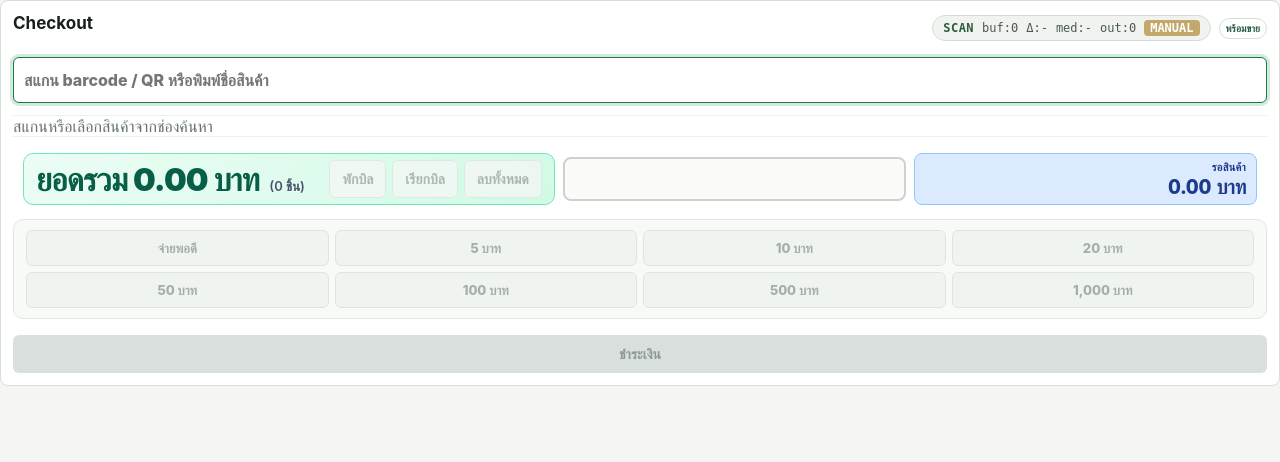
Scenario: PosCheckoutPage › keeps the scan field focused for barcode scanner input
// Open the dropdown to inspect the available suggestions.
Type "Drinking" into the dropdown named "สแกนหรือค้นหาสินค้า". click: (640,80)
box: left=13, top=57, right=1267, bottom=103
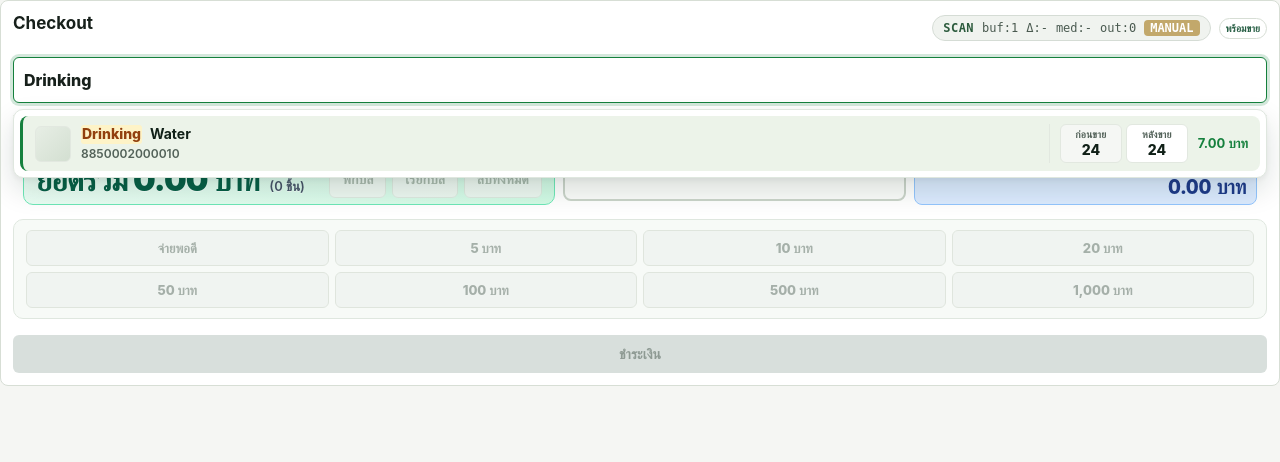
Now the option shows "Drinking Water", box left=20, top=116, right=1260, bottom=171
Now the option shows "8850002000010", box left=20, top=116, right=1260, bottom=171
Now the option shows "7.00 บาท", box left=20, top=116, right=1260, bottom=171
Replace the text in the dropdown named "สแกนหรือค้นหาสินค้า" with "8850002000010". click: (640,80)
box: left=13, top=57, right=1267, bottom=103
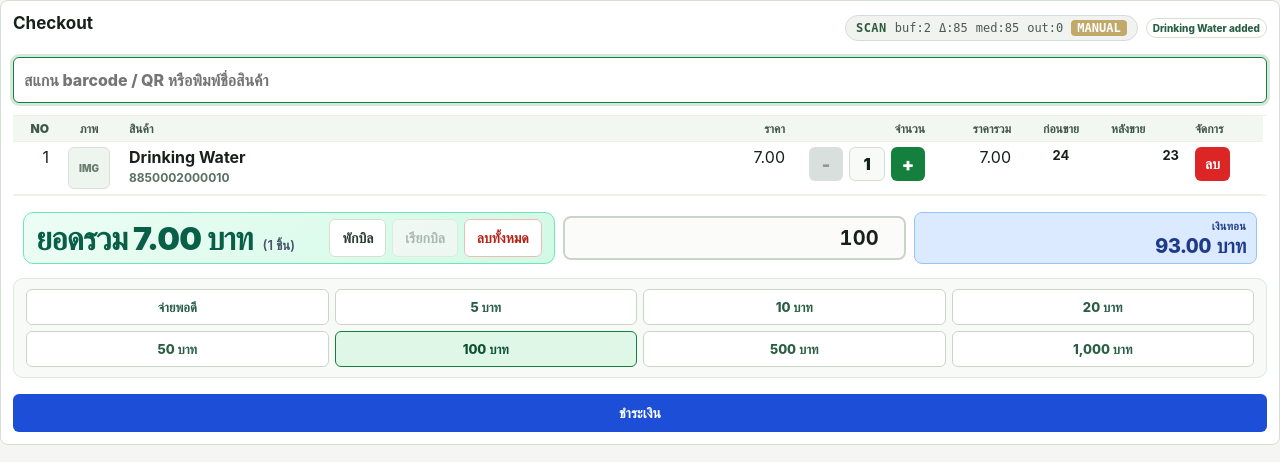
Now the table named "รายการสินค้าในตะกร้า" is shown, box left=13, top=116, right=1263, bottom=195
